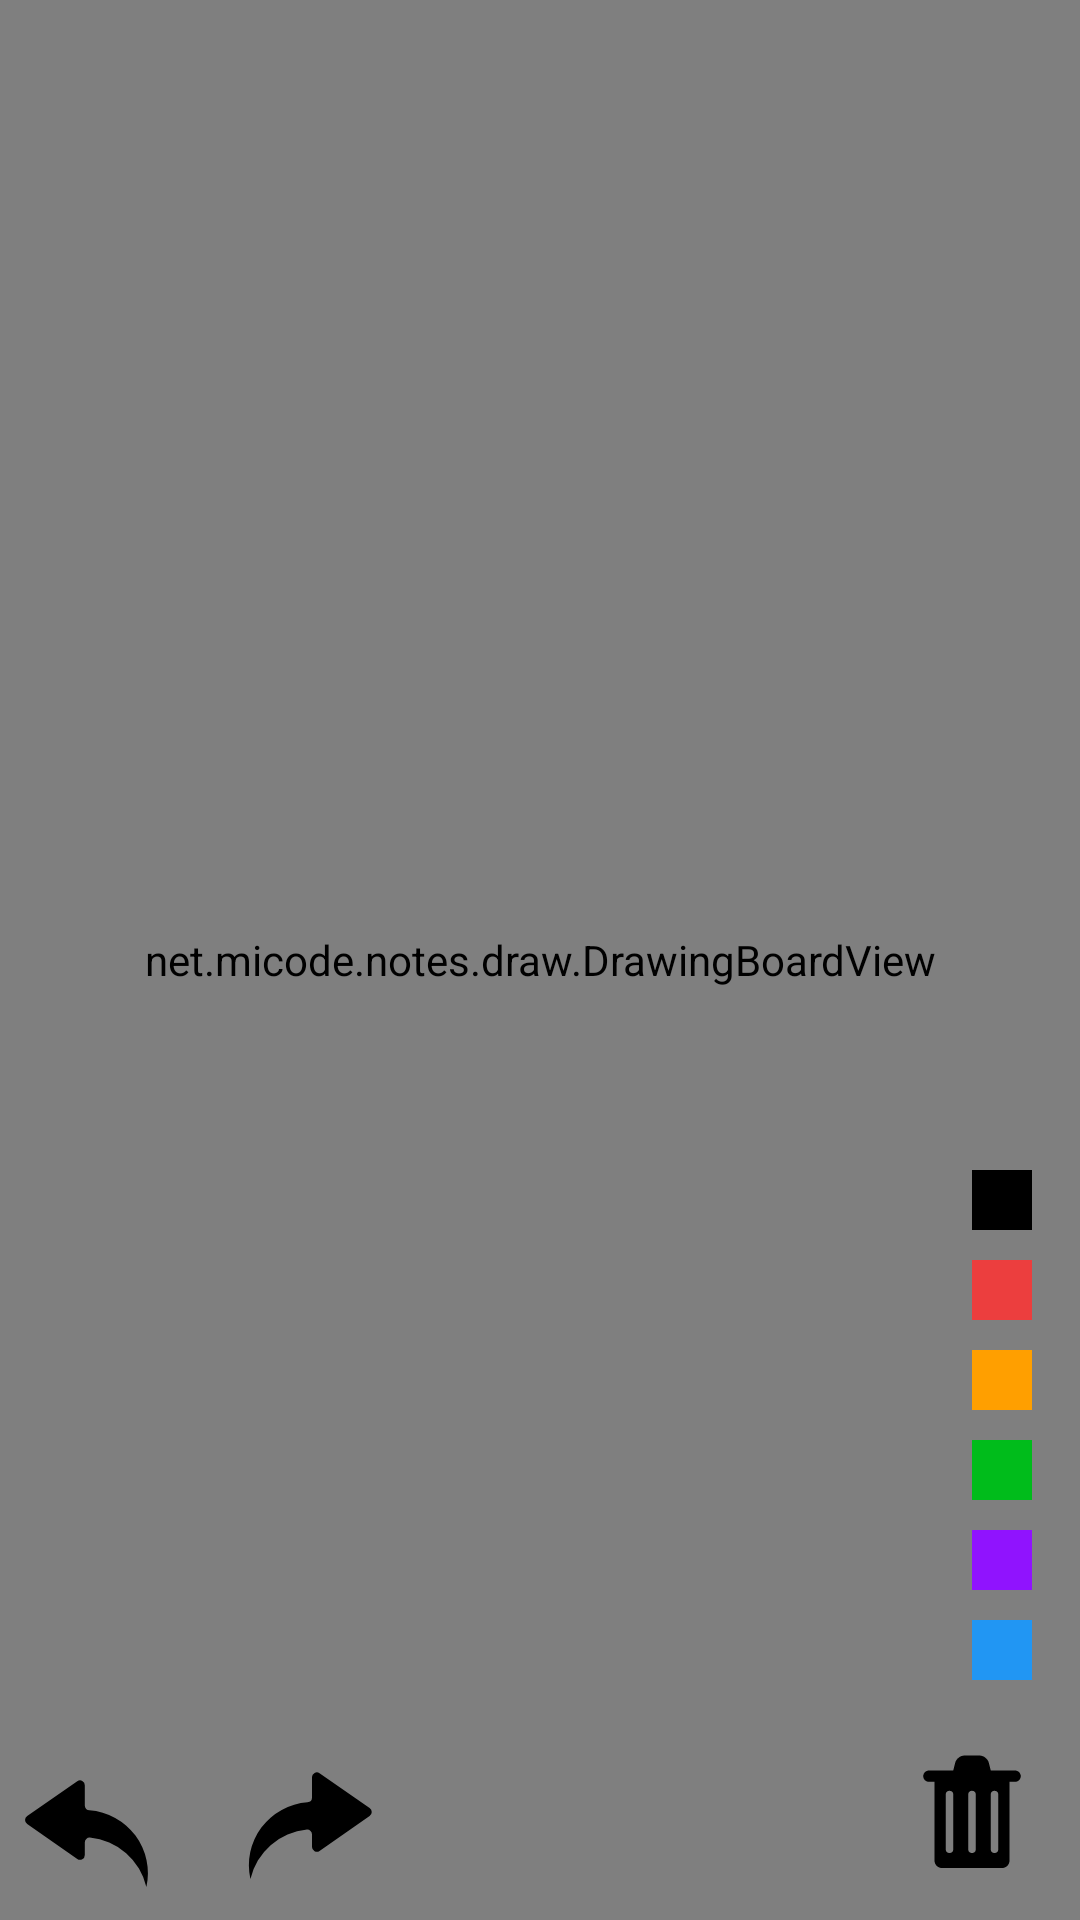

Icon bounding boxes for this 1080x1920 phone screenshot, format bbox(x1, y1, x2, y2):
delete: bbox(923, 1755, 1021, 1868)
redo: bbox(249, 1772, 372, 1879)
undo: bbox(25, 1780, 148, 1887)
